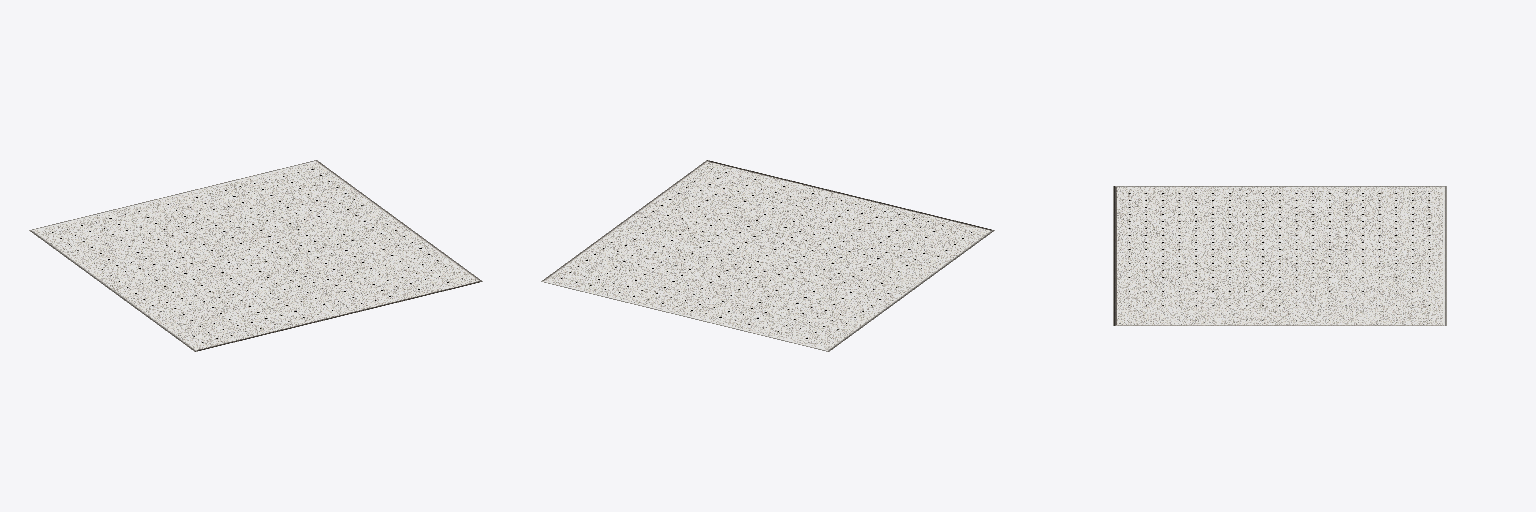
3 renders of one model, left to right at view 1: azimuth 30°, elevation 25°; view 2: azimuth 150°, elevation 25°; view 3: azimuth 270°, elevation 25°, orthographic.
Parts seen in each view (by area): view 1: Plane; view 2: Plane; view 3: Plane.
Boxes of the visible parts, box(x1,y1,x2,y2) form: Plane: box(29, 160, 482, 351); Plane: box(541, 160, 994, 351); Plane: box(1113, 186, 1446, 325).
Bounding box in the file's own units: 2 × 0 × 2.
1 materials, 1 textured.